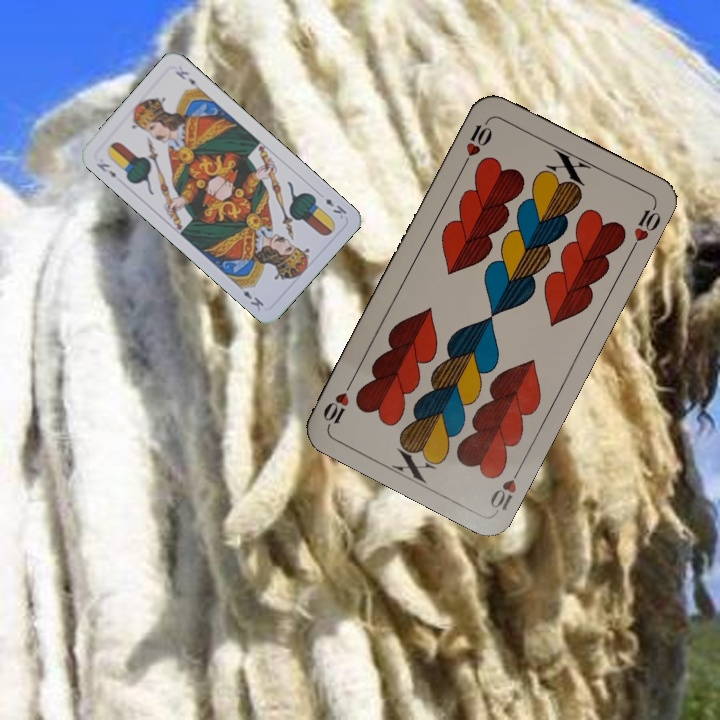EK: (321, 194, 349, 222), (92, 159, 119, 181)
H10: (486, 460, 525, 515), (458, 115, 495, 170)
